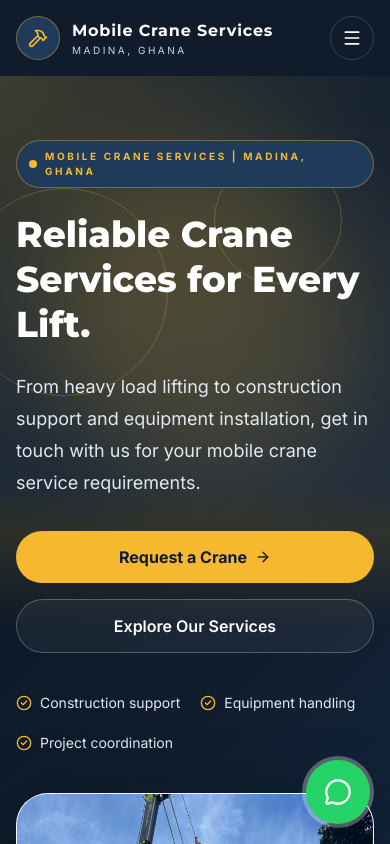
Test: App › toggles the mobile menu
Click the button named "toggle menu" at (352, 38), box [330, 16, 374, 60]
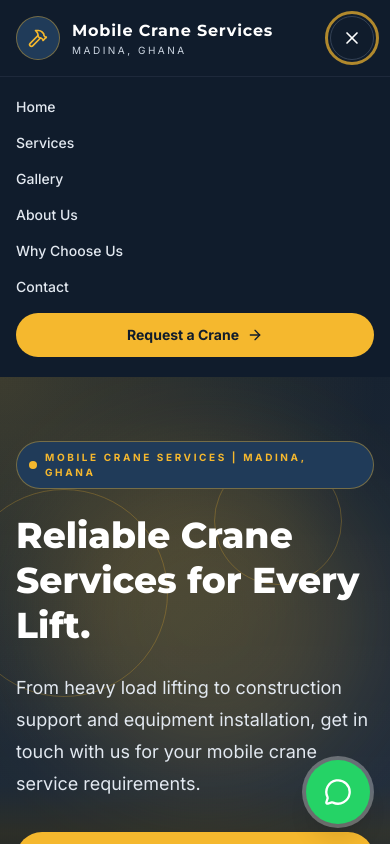
Expected: the button named "toggle menu" is expanded, [330, 16, 374, 60]
